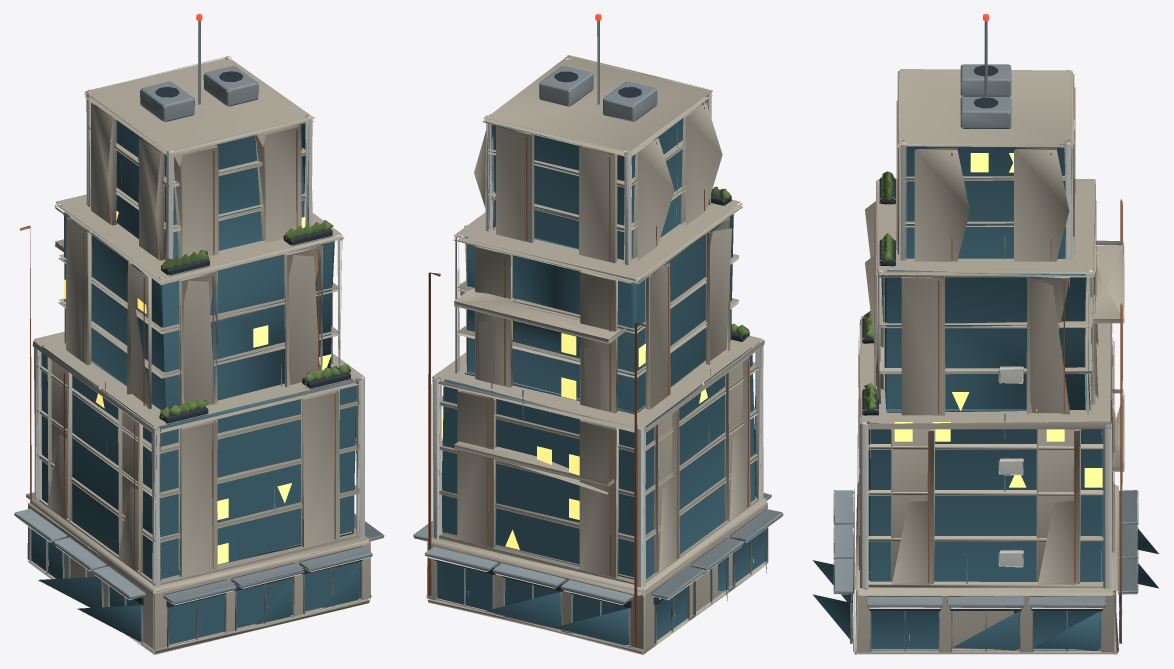
The model's file is tower-0-lod.glb.
The picture shows the model from 3 angles, left to right: view 1: azimuth 30°, elevation 25°; view 2: azimuth 150°, elevation 25°; view 3: azimuth 270°, elevation 25°; orthographic projection. The views are drawn at different scales.
Parts seen in each view (by area): view 1: NC mineral concrete, NC sapphire glazing, NC brushed titanium, NC ceramic ivory, NC oxidized copper, NC graphite, NC foliage, NC amber; view 2: NC mineral concrete, NC sapphire glazing, NC brushed titanium, NC ceramic ivory, NC oxidized copper, NC amber, NC graphite; view 3: NC mineral concrete, NC sapphire glazing, NC brushed titanium, NC ceramic ivory, NC oxidized copper, NC amber, NC graphite, NC foliage.
Part boxes in pixels (x1=…): NC mineral concrete: x1=27, y1=56, x2=371, y2=654; NC sapphire glazing: x1=31, y1=104, x2=360, y2=646; NC brushed titanium: x1=14, y1=20, x2=384, y2=647; NC ceramic ivory: x1=16, y1=56, x2=369, y2=624; NC oxidized copper: x1=20, y1=118, x2=335, y2=569; NC graphite: x1=133, y1=71, x2=362, y2=608; NC foliage: x1=160, y1=220, x2=350, y2=418; NC amber: x1=64, y1=211, x2=331, y2=564; NC mineral concrete: x1=425, y1=55, x2=767, y2=654; NC sapphire glazing: x1=437, y1=118, x2=766, y2=647; NC brushed titanium: x1=413, y1=20, x2=783, y2=647; NC ceramic ivory: x1=427, y1=56, x2=780, y2=619; NC oxidized copper: x1=428, y1=107, x2=748, y2=645; NC amber: x1=441, y1=321, x2=707, y2=549; NC graphite: x1=434, y1=71, x2=749, y2=608; NC mineral concrete: x1=850, y1=69, x2=1124, y2=654; NC sapphire glazing: x1=812, y1=144, x2=1158, y2=650; NC brushed titanium: x1=833, y1=21, x2=1138, y2=651; NC ceramic ivory: x1=835, y1=70, x2=1122, y2=640; NC oxidized copper: x1=857, y1=87, x2=1122, y2=643; NC amber: x1=894, y1=153, x2=1102, y2=487; NC graphite: x1=850, y1=65, x2=1120, y2=611; NC foliage: x1=863, y1=171, x2=893, y2=411.
Size of the model in its own units: 27.4 by 51.2 by 27.4.
